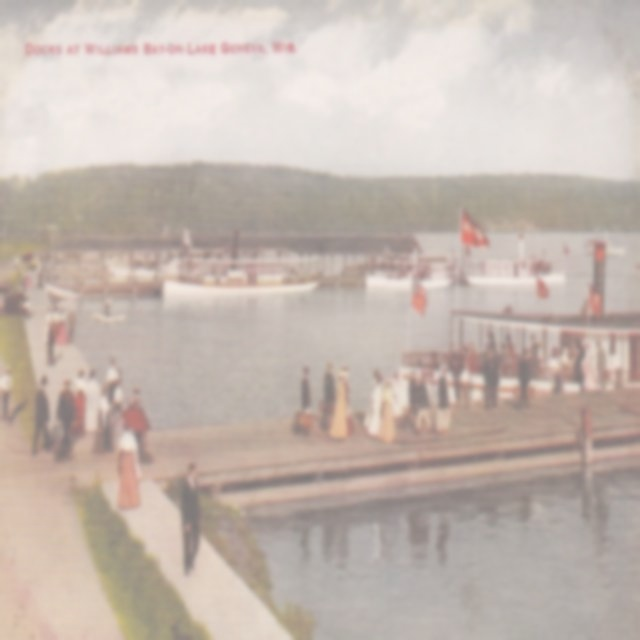pessoa: (292, 508, 452, 571), (453, 491, 535, 537), (340, 252, 446, 280), (178, 460, 202, 578), (588, 478, 614, 580), (115, 422, 142, 509), (558, 340, 595, 394), (181, 248, 244, 278), (54, 377, 78, 455), (32, 374, 54, 458), (374, 380, 398, 446), (79, 248, 157, 268), (91, 383, 112, 456), (319, 357, 337, 435), (398, 368, 418, 432), (414, 374, 434, 438), (282, 264, 340, 286), (84, 368, 102, 438), (299, 365, 315, 437), (366, 374, 384, 438), (362, 368, 380, 430), (341, 362, 356, 436), (515, 348, 532, 412), (436, 366, 451, 436), (548, 345, 566, 403), (124, 386, 143, 436), (500, 332, 520, 379), (488, 346, 502, 410), (512, 255, 552, 276), (106, 356, 122, 408), (247, 244, 290, 262), (482, 348, 494, 412), (387, 371, 402, 422), (0, 366, 13, 423), (108, 394, 124, 440), (594, 336, 606, 394), (462, 338, 480, 376), (458, 360, 471, 410), (430, 345, 450, 377), (68, 367, 88, 398), (44, 318, 56, 368), (451, 360, 463, 407), (55, 306, 68, 348), (132, 416, 146, 454), (66, 304, 78, 348), (15, 287, 32, 318), (112, 378, 124, 419), (50, 304, 61, 348), (480, 341, 492, 381), (446, 338, 458, 371), (456, 342, 468, 374), (22, 252, 36, 278), (528, 333, 538, 368), (42, 248, 59, 268), (44, 306, 52, 348), (36, 253, 44, 290), (580, 296, 589, 326), (0, 285, 8, 318), (104, 295, 114, 319), (537, 341, 543, 368), (76, 284, 85, 301), (14, 255, 20, 273), (487, 330, 495, 343), (6, 243, 12, 260)
